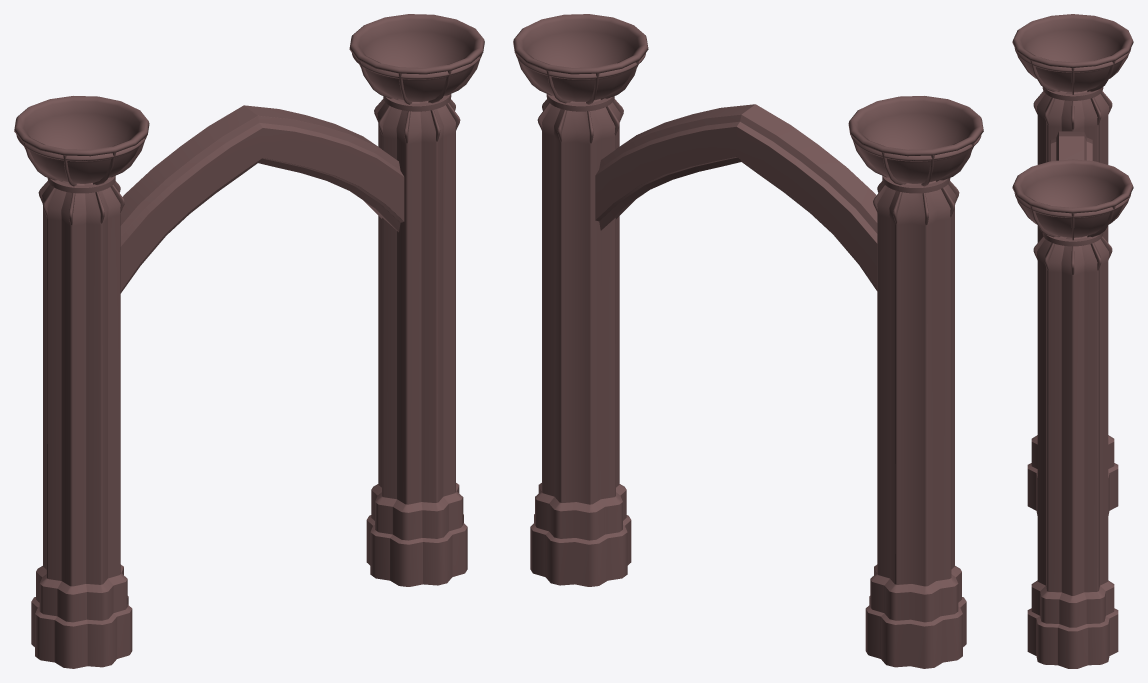
File: arch.fbx
3 views of the same model, side by side, from view 1: azimuth 30°, elevation 25°; view 2: azimuth 150°, elevation 25°; view 3: azimuth 270°, elevation 25° (orthographic). The views are drawn at different scales.
Parts seen in each view (by area): view 1: arch; view 2: arch; view 3: arch.
Boxes of the visible parts, x1,y1,x2,y2 form: arch: [14, 14, 484, 668]; arch: [513, 14, 983, 668]; arch: [1012, 14, 1133, 668].
Size of the model in its own units: 430 by 476 by 112.
